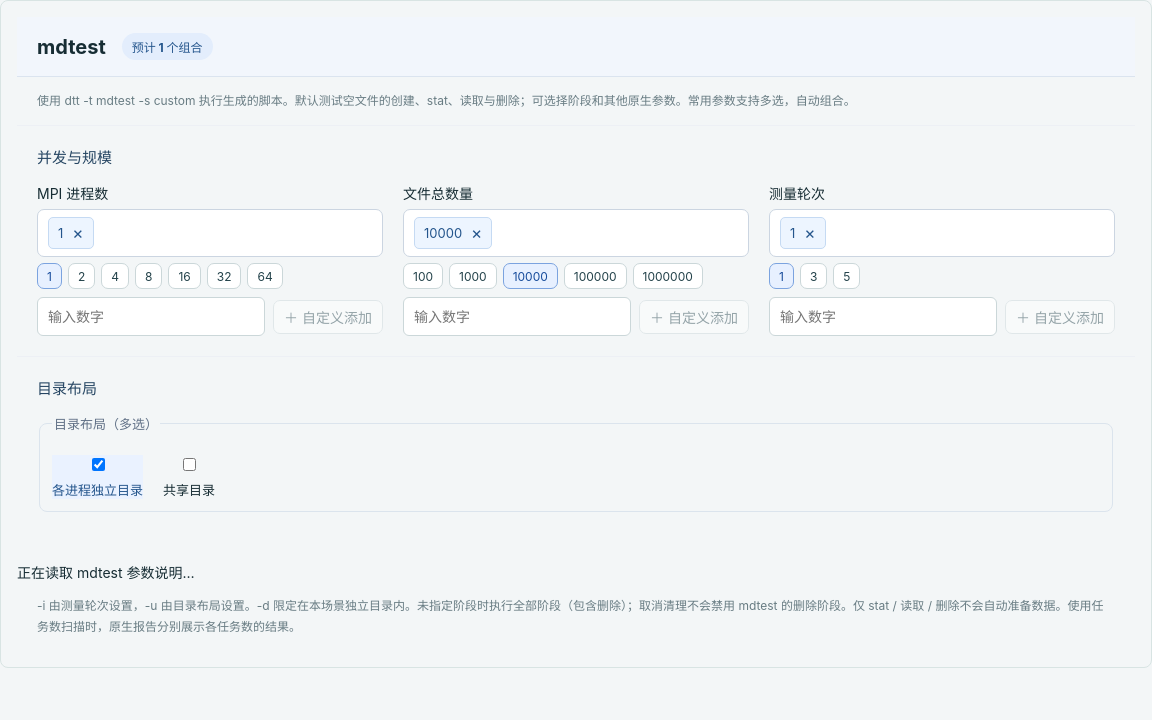
Test: mdtest exposes metadata controls and submits only supported parameters
Expected: the text "MPI 进程数" is shown, 37,185 -> 108,202
Click the checkbox named "mdtest 共享目录": (190, 465) 183,458 -> 196,471
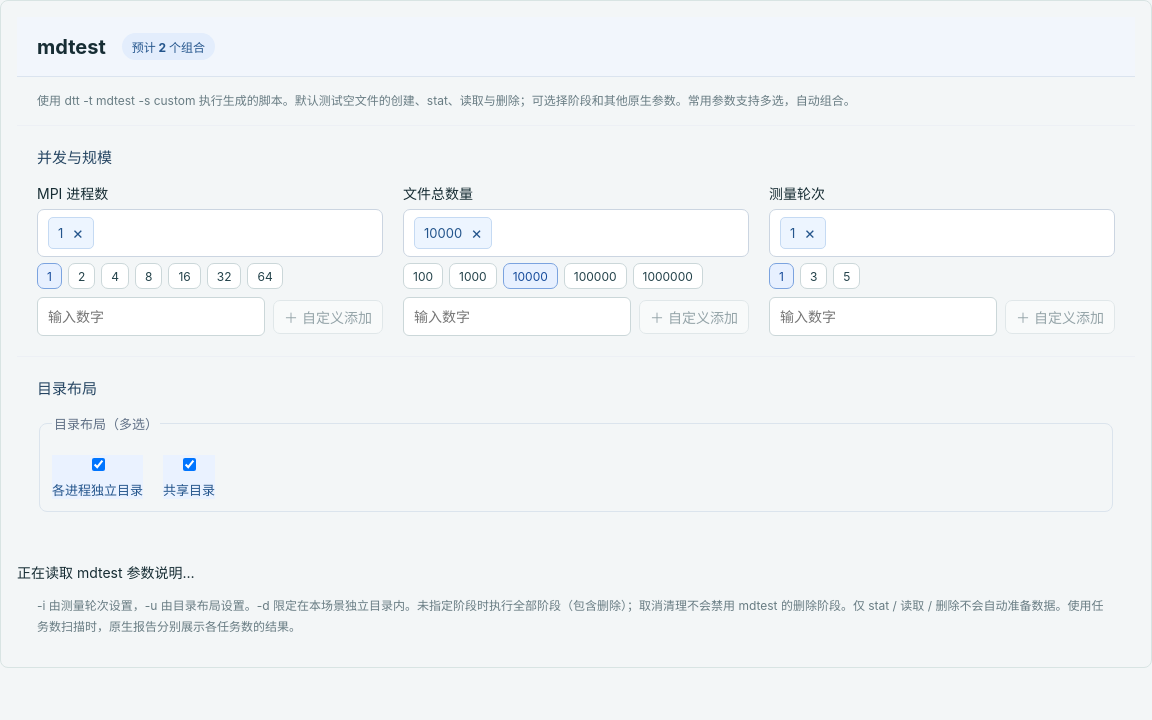
Now the text "预计 2 个组合" is shown, box 122,33 -> 215,60
